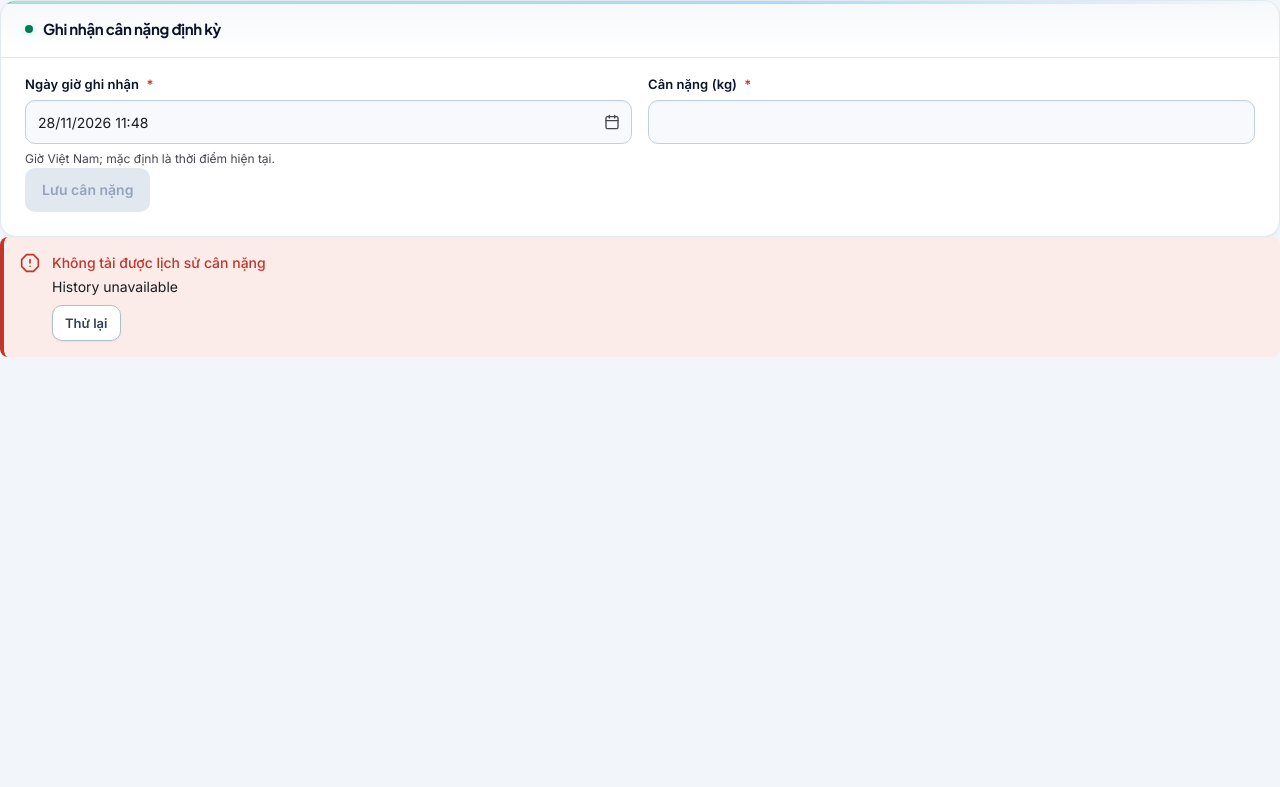
Scenario: periodic weight recording › allows retry and retains the recording form after HTTP 500
This screenshot has width=1280, height=787.
Expected: the text "Không tải được lịch sử cân nặng" is shown, [52,254,266,271]
Expected: the number field labelled "Cân nặng (kg)" is shown, [648,100,1255,144]
Click the button "Thử lại".
click(86, 323)  # box [52,305,120,341]
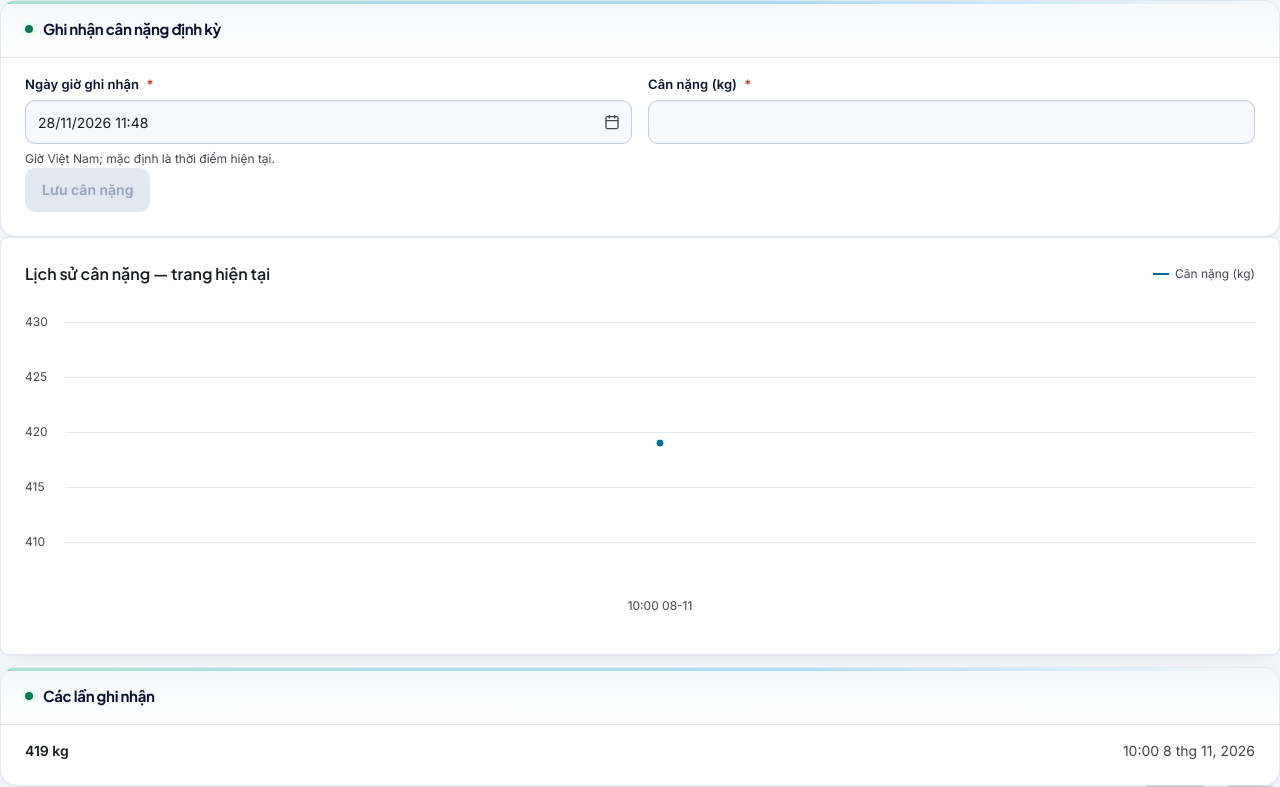
Expected: the text "419 kg" is shown, [25,741,69,761]
